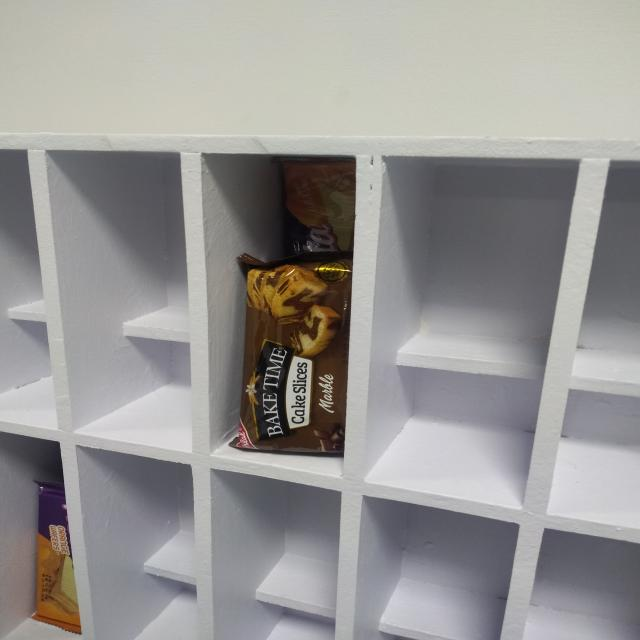Plastic: (241, 262, 348, 450), (277, 156, 354, 255), (34, 484, 77, 630)
